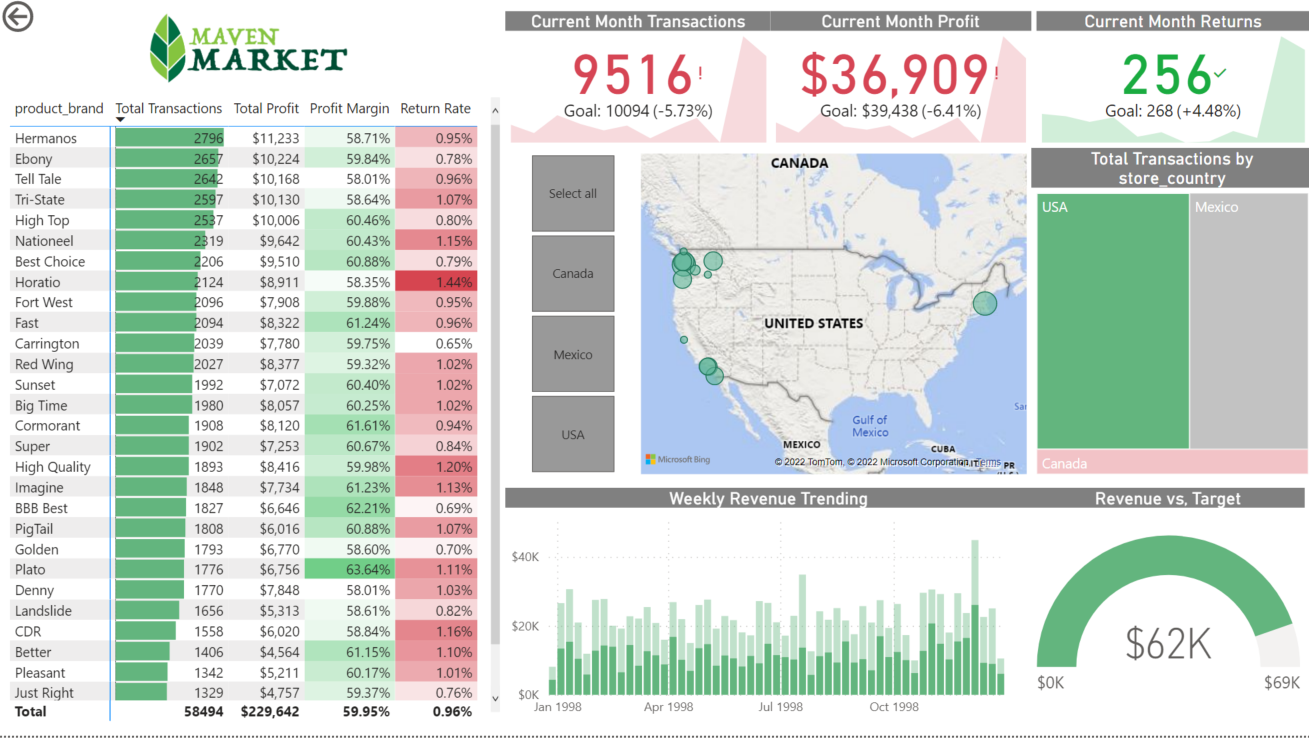

This screenshot's page, from the dashboard's own definition file:
{"tool":"powerbi","page":{"name":"Topline Performance","canvas":[1280,720],"ordinal":0},"visuals":[{"type":"actionButton","box":[0,0,100,40],"z":0},{"type":"image","box":[6.8,6.8,473.7,86.8],"z":1000},{"type":"pivotTable","fields":{"Values":["Transaction_Data.Total Transactions","Transaction_Data.Total Profit","Transaction_Data.Profit Margin","Returns_Data.Return Rate"],"Rows":["Products.product_brand"]},"box":[6.8,93.6,487.2,616.9],"z":2000},{"type":"kpi","title":"Current Month Transactions","fields":{"TrendLine":["Calendar.Start of Month"],"Goal":["Transaction_Data.Last Month Transactions"],"Indicator":["Transaction_Data.Total Transactions"]},"box":[494.1,14.6,258.7,133.3],"z":3000},{"type":"kpi","title":"Current Month Profit","fields":{"TrendLine":["Calendar.Start of Month"],"Indicator":["Transaction_Data.Total Profit"],"Goal":["Transaction_Data.Last Month Profit"]},"box":[752.2,14.6,253.7,133.1],"z":4000},{"type":"kpi","title":"Current Month Returns","fields":{"TrendLine":["Calendar.Start of Month"],"Indicator":["Returns_Data.Total Returns"],"Goal":["Returns_Data.Last Month Returns"]},"box":[1010.5,14.6,266.1,133.1],"z":5000},{"type":"map","fields":{"Category":["Stores.store_city"],"Size":["Transaction_Data.Total Transactions"]},"box":[620.3,147.7,385.7,322.5],"z":6000},{"type":"slicer","fields":{"Values":["Stores.store_country"]},"box":[494,147.7,129.7,322.5],"z":7000},{"type":"treemap","fields":{"Values":["Transaction_Data.Total Transactions"],"Group":["Stores.store_state","Stores.store_city","Stores.store_country"]},"box":[1006,147.7,274,322.5],"z":8000},{"type":"columnChart","title":"Weekly Revenue Trending","fields":{"Y":["Transaction_Data.Total Revenue"],"Category":["Calendar.Start of Week"]},"box":[494,478.2,512,232.3],"z":9000},{"type":"gauge","title":"Revenue vs, Target","fields":{"Y":["Transaction_Data.Total Revenue"],"MaxValue":["Transaction_Data.Revenue Target"]},"box":[1006,478.2,266.1,232.3],"z":10000}]}

Visuals, with their boxes in screenshot pixels (x1, y1, x2, y2), scaled from the page's 1280x720 canvas onto the 1309x739 screenshot:
actionButton: 0,0,102,41
image: 7,7,491,96
pivotTable - Transaction_Data.Total Transactions x Transaction_Data.Total Profit: 7,96,505,729
"Current Month Transactions" kpi: 505,15,770,152
"Current Month Profit" kpi: 769,15,1029,152
"Current Month Returns" kpi: 1033,15,1306,152
map - Stores.store_city x Transaction_Data.Total Transactions: 634,152,1029,483
slicer - Stores.store_country: 505,152,638,483
treemap - Transaction_Data.Total Transactions x Stores.store_state: 1029,152,1308,483
"Weekly Revenue Trending" columnChart: 505,491,1029,729
"Revenue vs, Target" gauge: 1029,491,1301,729
